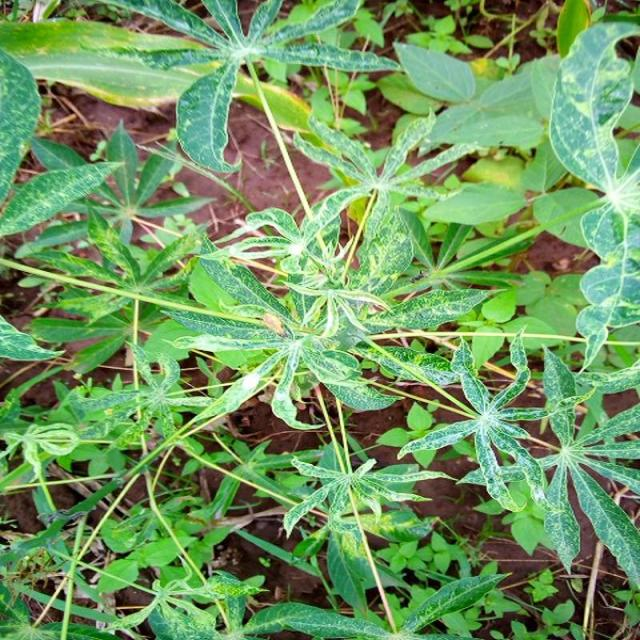cassava leaf: (0, 3, 638, 637), (547, 19, 638, 191)
